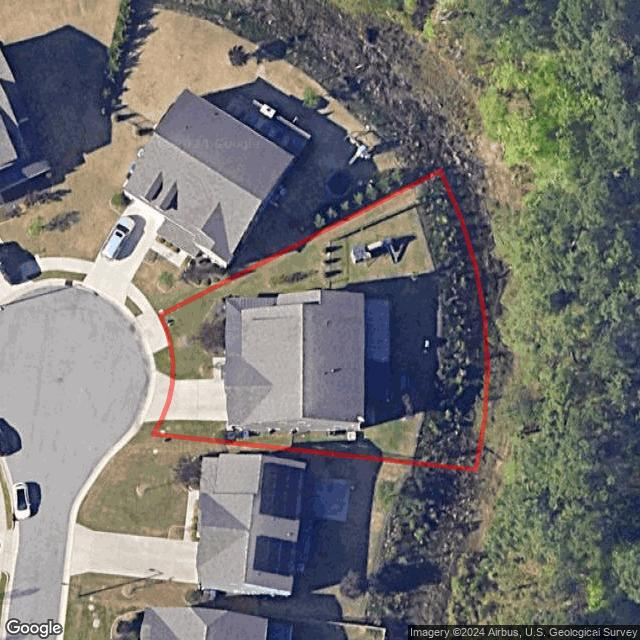Driveway: (160, 378, 226, 422)
Extra-Driveway: (145, 371, 175, 423)
Extra-Lawn: (154, 346, 174, 376), (139, 423, 161, 433)
Extra-Sidewalk: (141, 317, 169, 354)
House: (226, 287, 364, 430)
Lawn: (154, 170, 488, 472)
Other: (413, 171, 487, 472), (196, 294, 243, 357), (365, 298, 390, 400)
Sidewalk: (211, 357, 228, 379)
